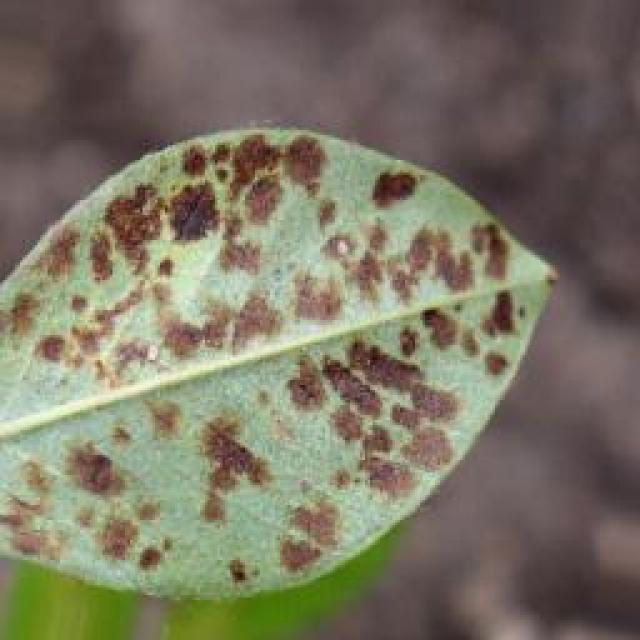Whitefly: (0, 110, 537, 586)
